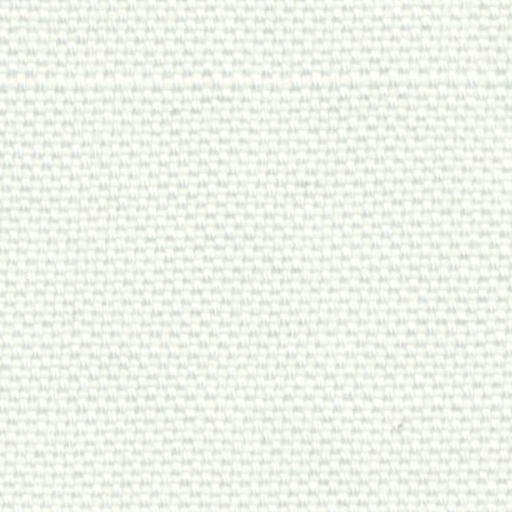TuoSha: (9, 50, 492, 122)
